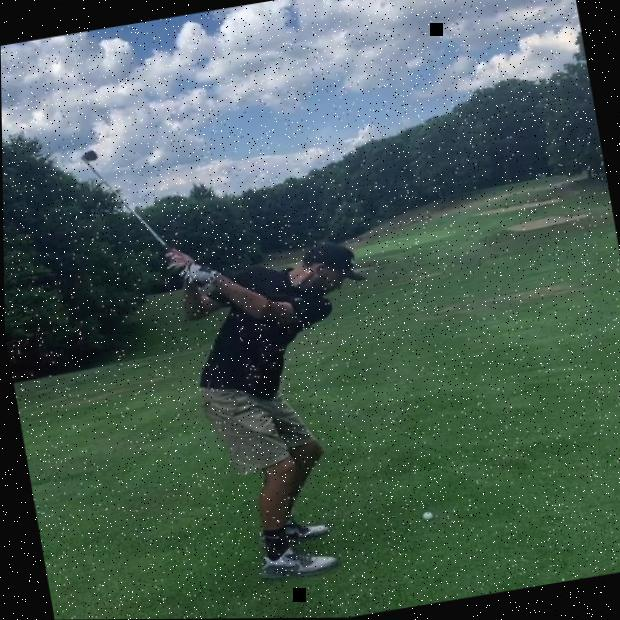ClubHead: (78, 148, 98, 164)
GolfBall: (420, 509, 433, 521)
